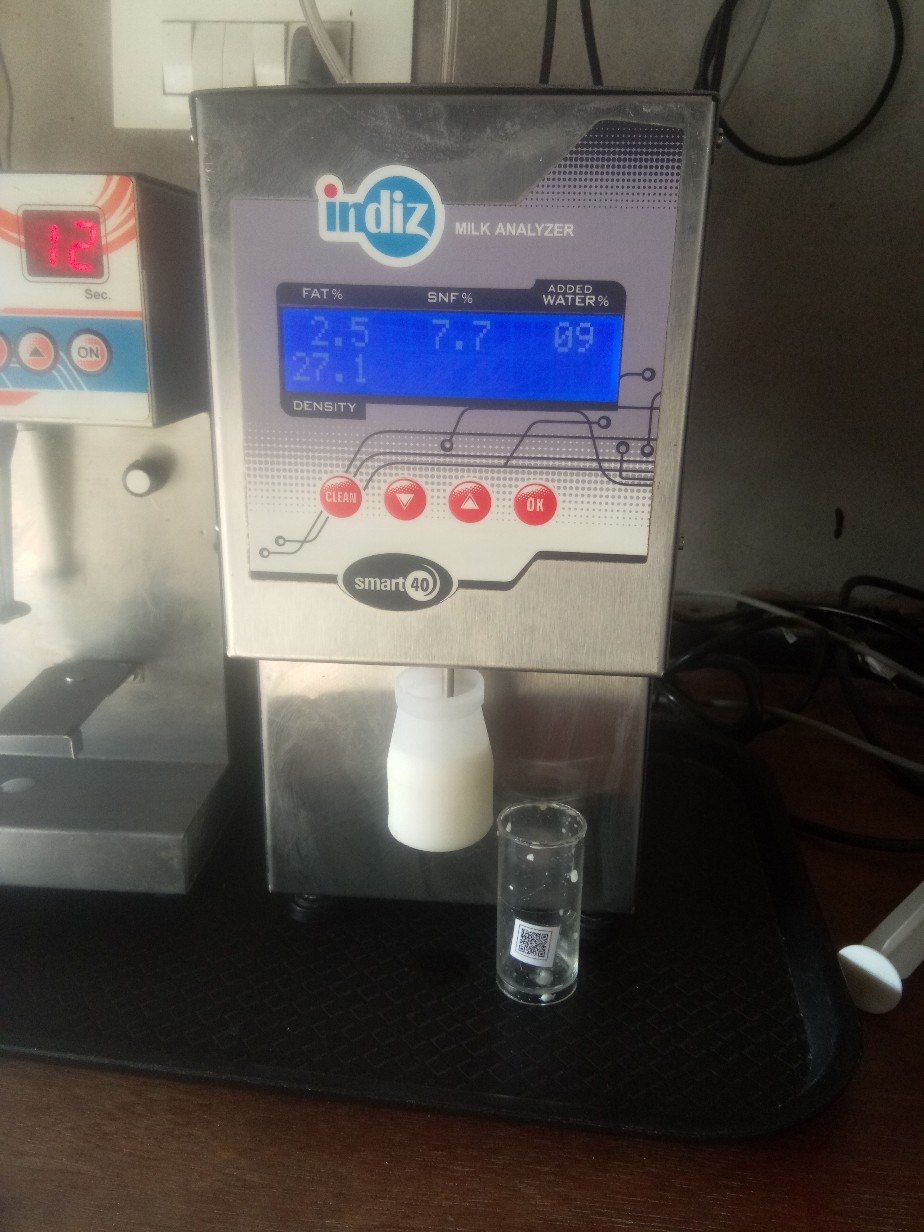lcd: (267, 304, 642, 427)
qr: (501, 910, 570, 972)
